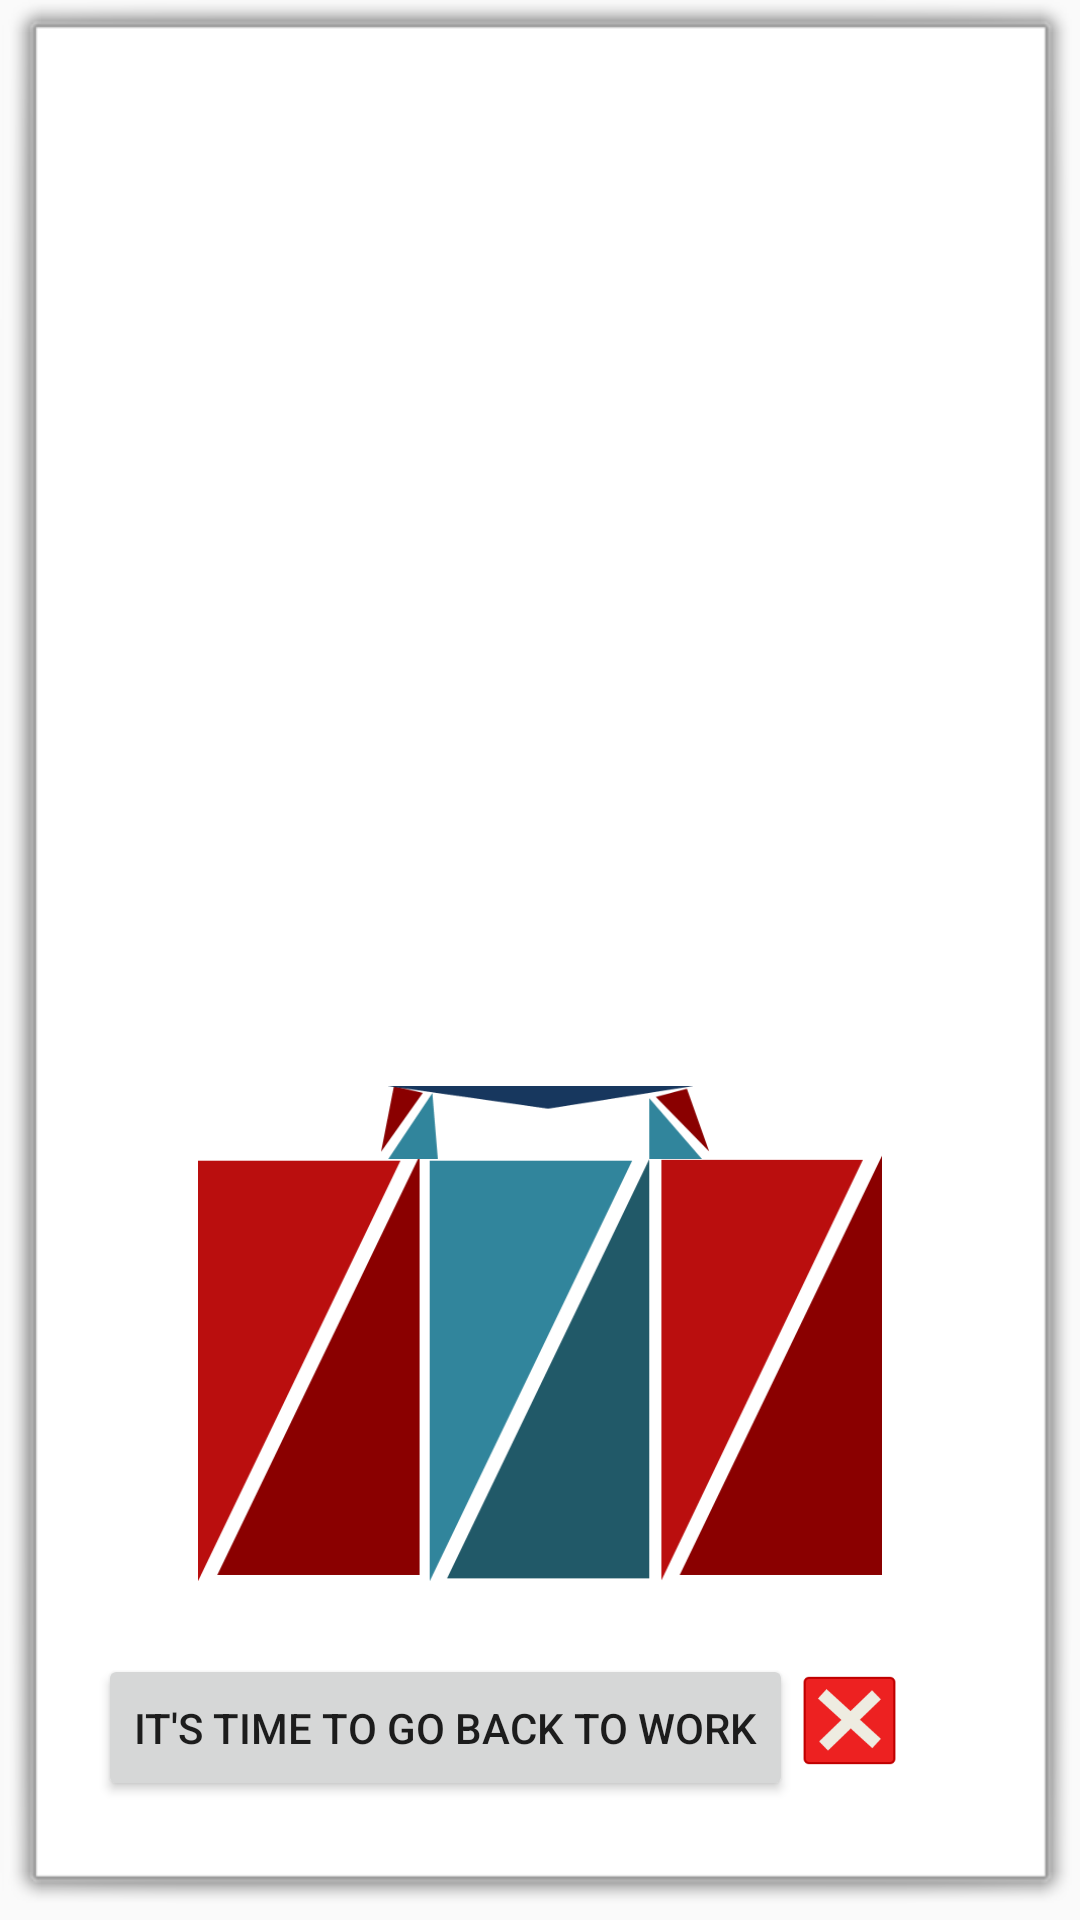

Icons on this 1080px x 1920px Android screen, each with the point to tap as (x,y):
cancel: (849,1720)
